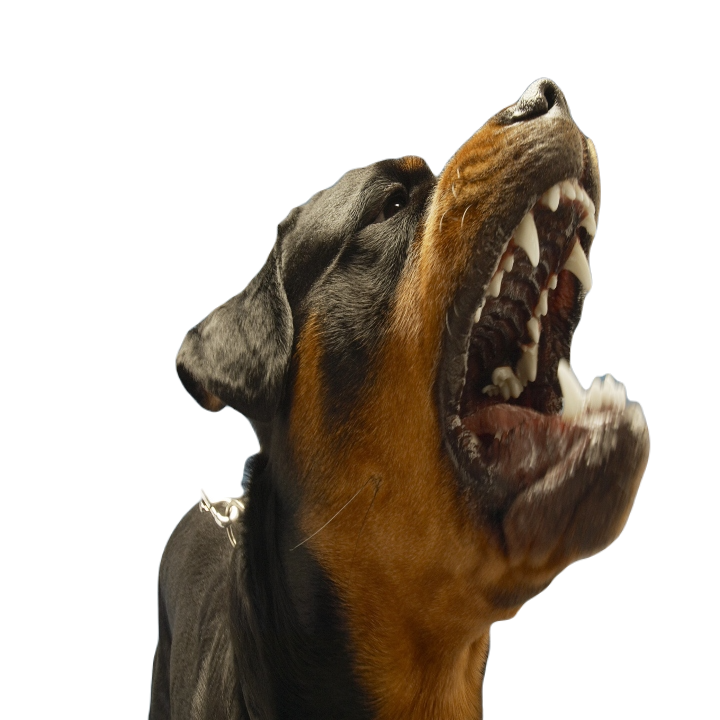Dog: (139, 84, 655, 719)
